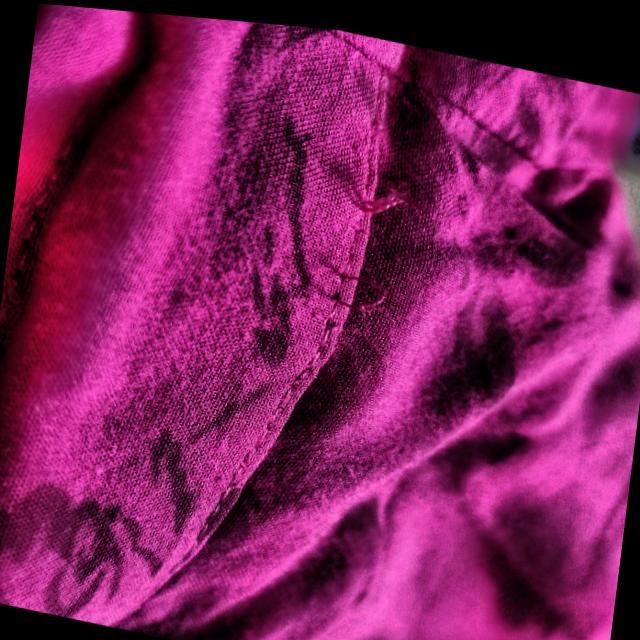Stitch: (316, 244, 410, 343), (345, 146, 423, 231)
